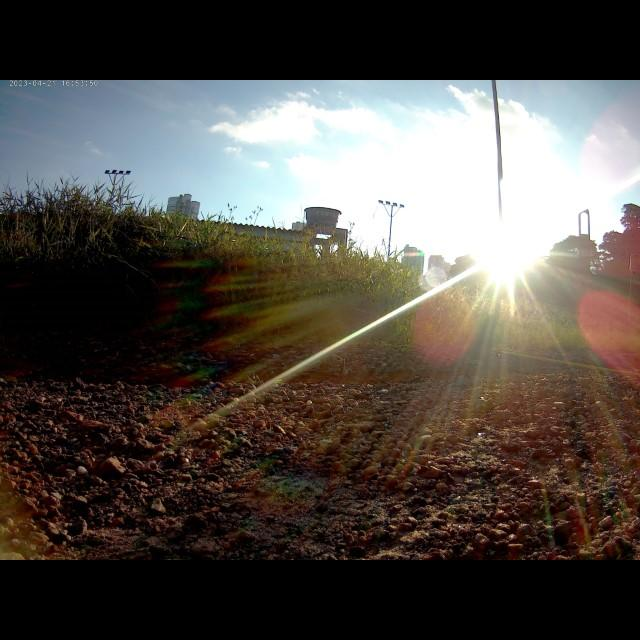ravina: (4, 354, 633, 391)
